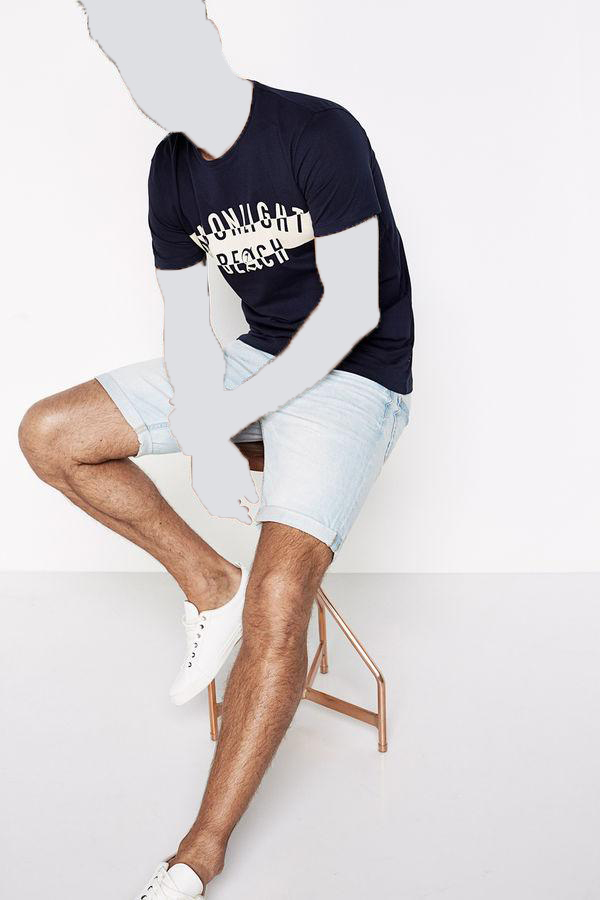teeshirt: (122, 84, 435, 417)
